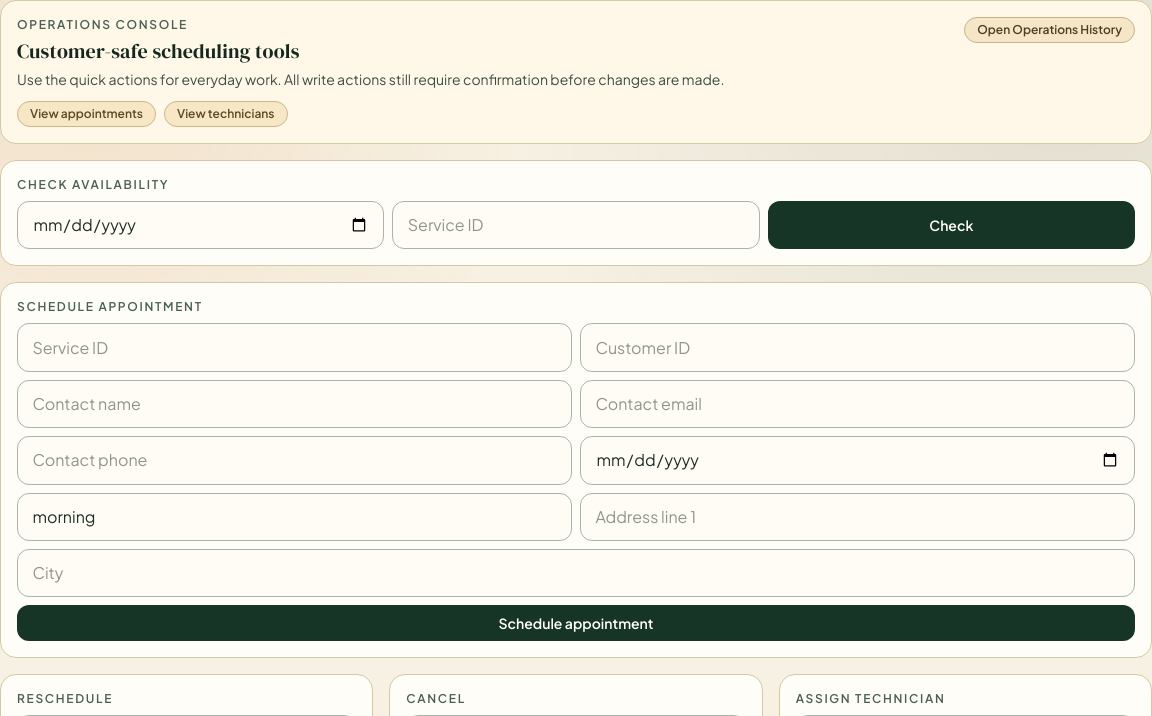
Test: ChatbotOperationsConsole › submits list appointments operation
Click the button "View appointments". click: (86, 114)
box: x1=17 y1=101 x2=156 y2=127
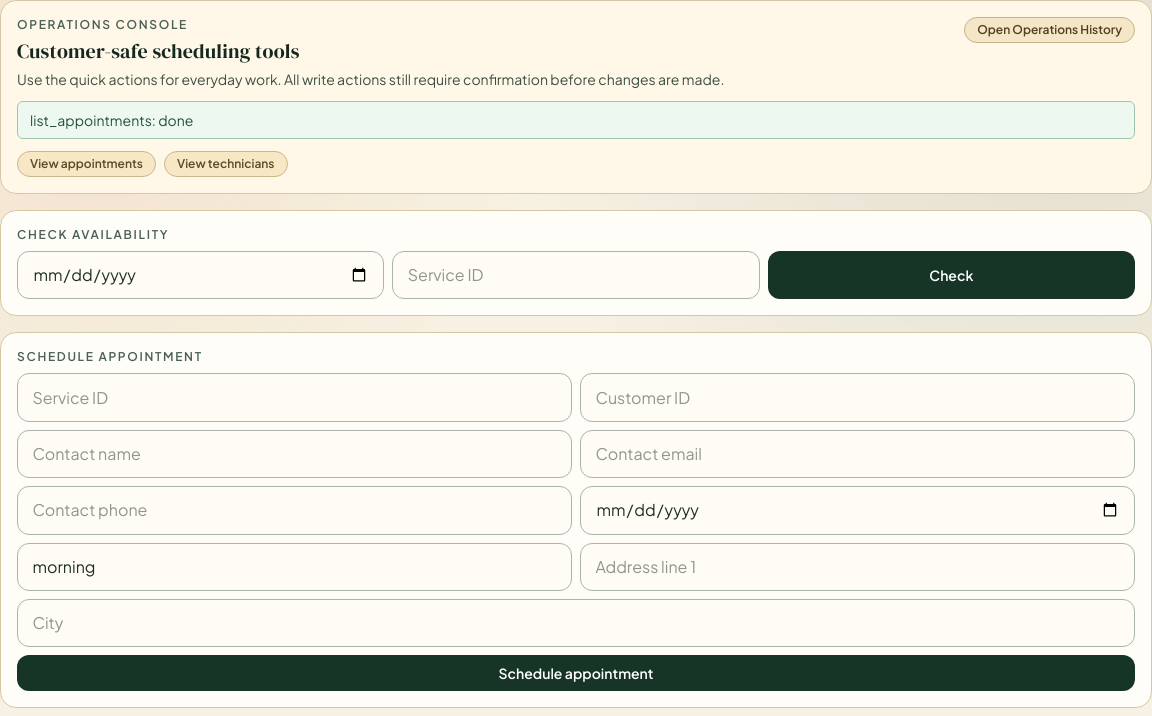
Expected: the text "list_appointments: done" is shown, x1=17 y1=101 x2=1135 y2=139
